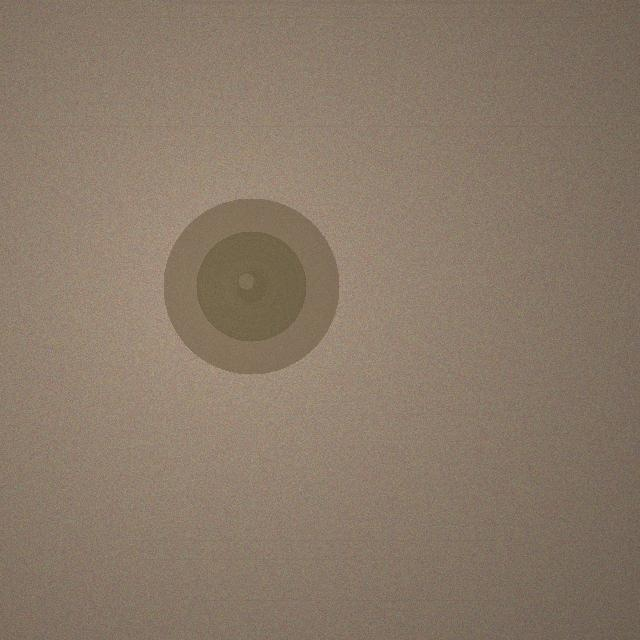good: (163, 198, 339, 374)
